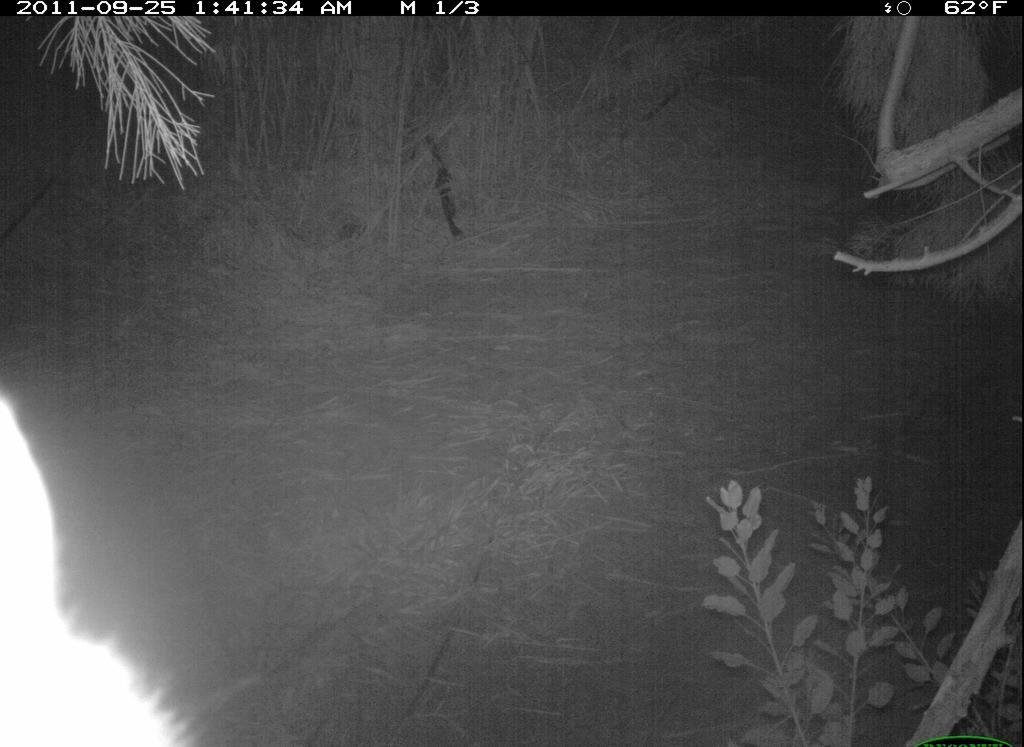raccoon: (1, 390, 211, 747)
